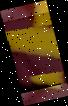scratch: (3, 11, 67, 94)
